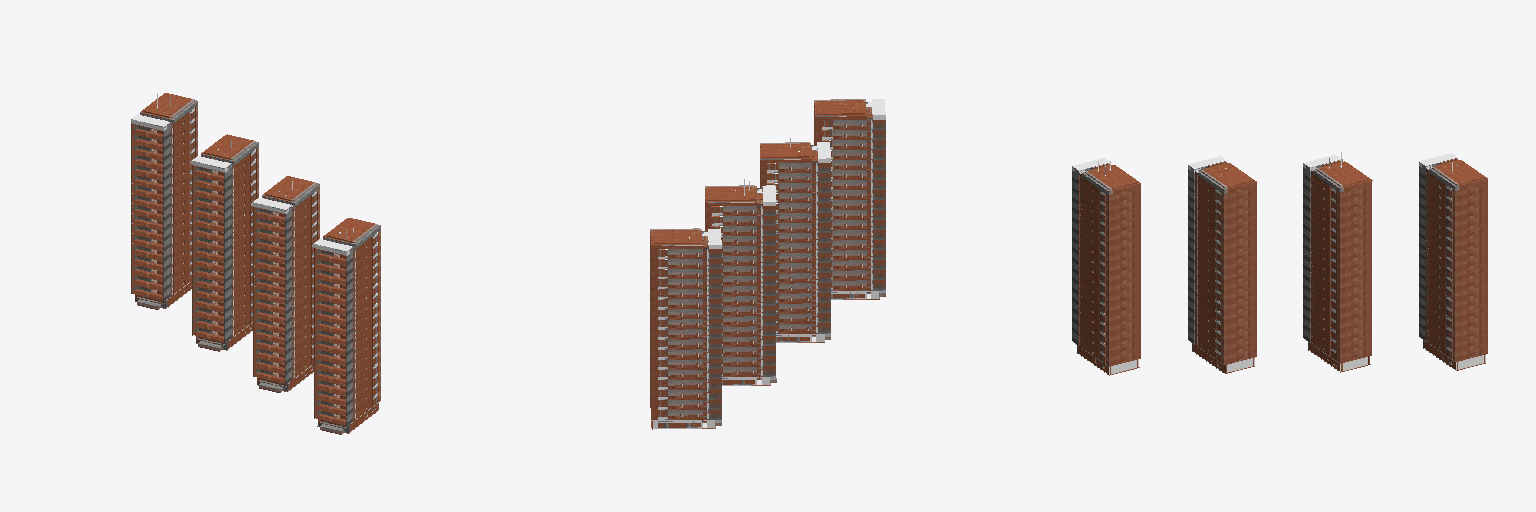
The picture shows the model from 3 angles: view 1: azimuth 30°, elevation 25°; view 2: azimuth 150°, elevation 25°; view 3: azimuth 270°, elevation 25°; orthographic projection.
Parts seen in each view (by area): view 1: Residential_Buildings_008.001_Cube.015; view 2: Residential_Buildings_008.001_Cube.015; view 3: Residential_Buildings_008.001_Cube.015.
Boxes of the visible parts, x1=… form: Residential_Buildings_008.001_Cube.015: x1=131, y1=93, x2=380, y2=434; Residential_Buildings_008.001_Cube.015: x1=650, y1=99, x2=885, y2=429; Residential_Buildings_008.001_Cube.015: x1=1072, y1=152, x2=1487, y2=375.
Size of the model in its own units: 7.1 by 17.33 by 32.4.
1 materials, 1 textured.